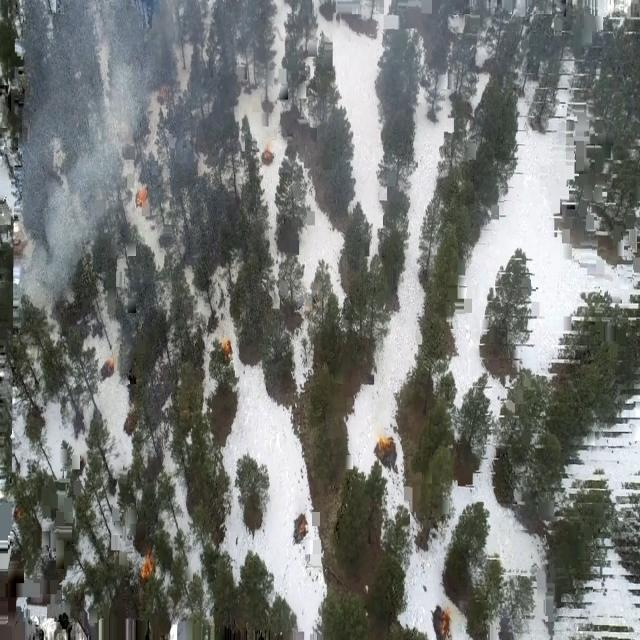Fire: (433, 601, 456, 640), (100, 348, 122, 376), (260, 139, 278, 173), (134, 186, 154, 216), (136, 553, 156, 580), (158, 84, 176, 108), (294, 522, 312, 546), (376, 434, 392, 456), (219, 332, 233, 357)
Smoke: (4, 3, 192, 325)
